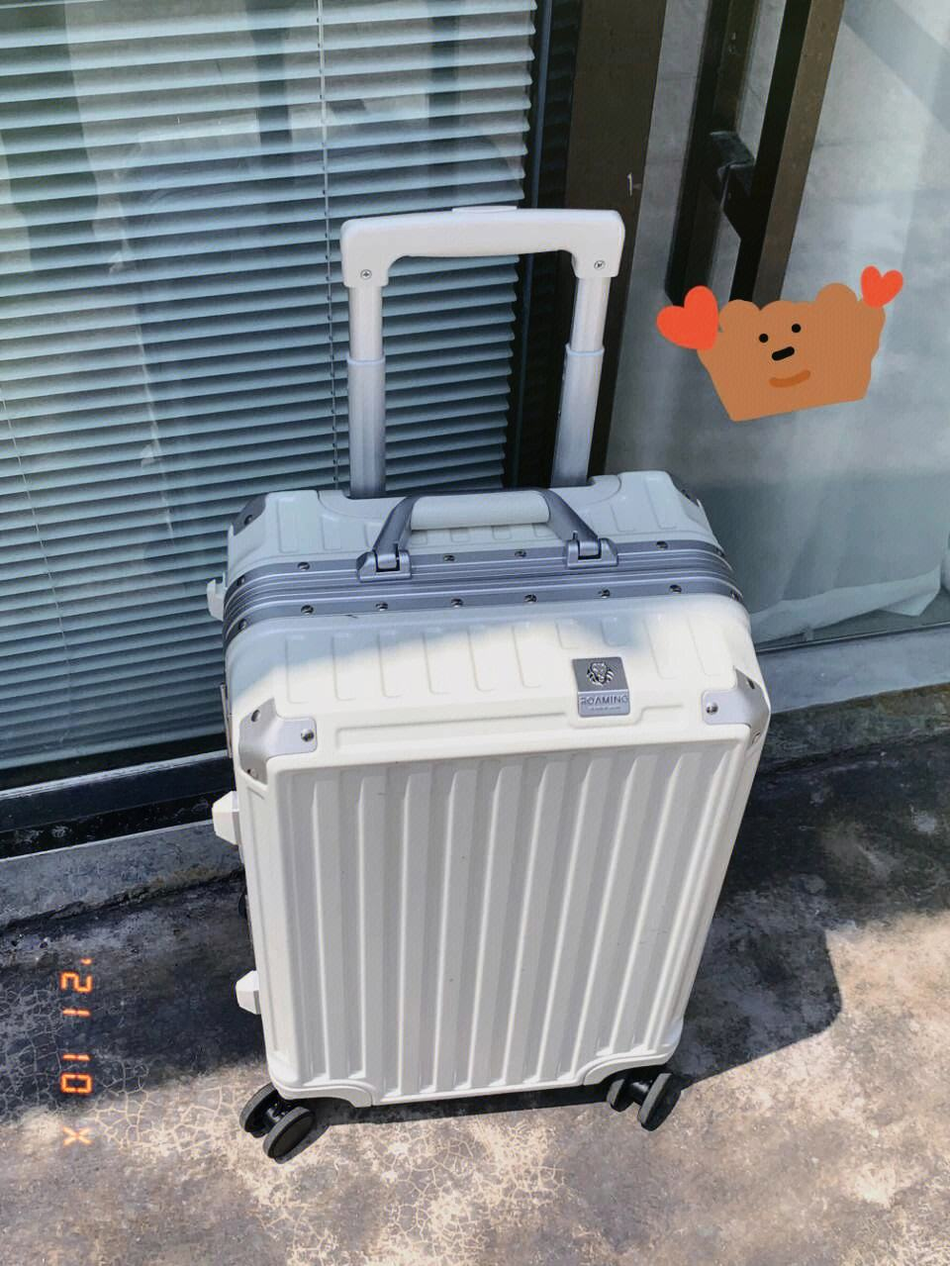box: (220, 469, 772, 1112)
handle: (356, 488, 618, 586)
wheel: (238, 1083, 312, 1160), (605, 1065, 673, 1128)
